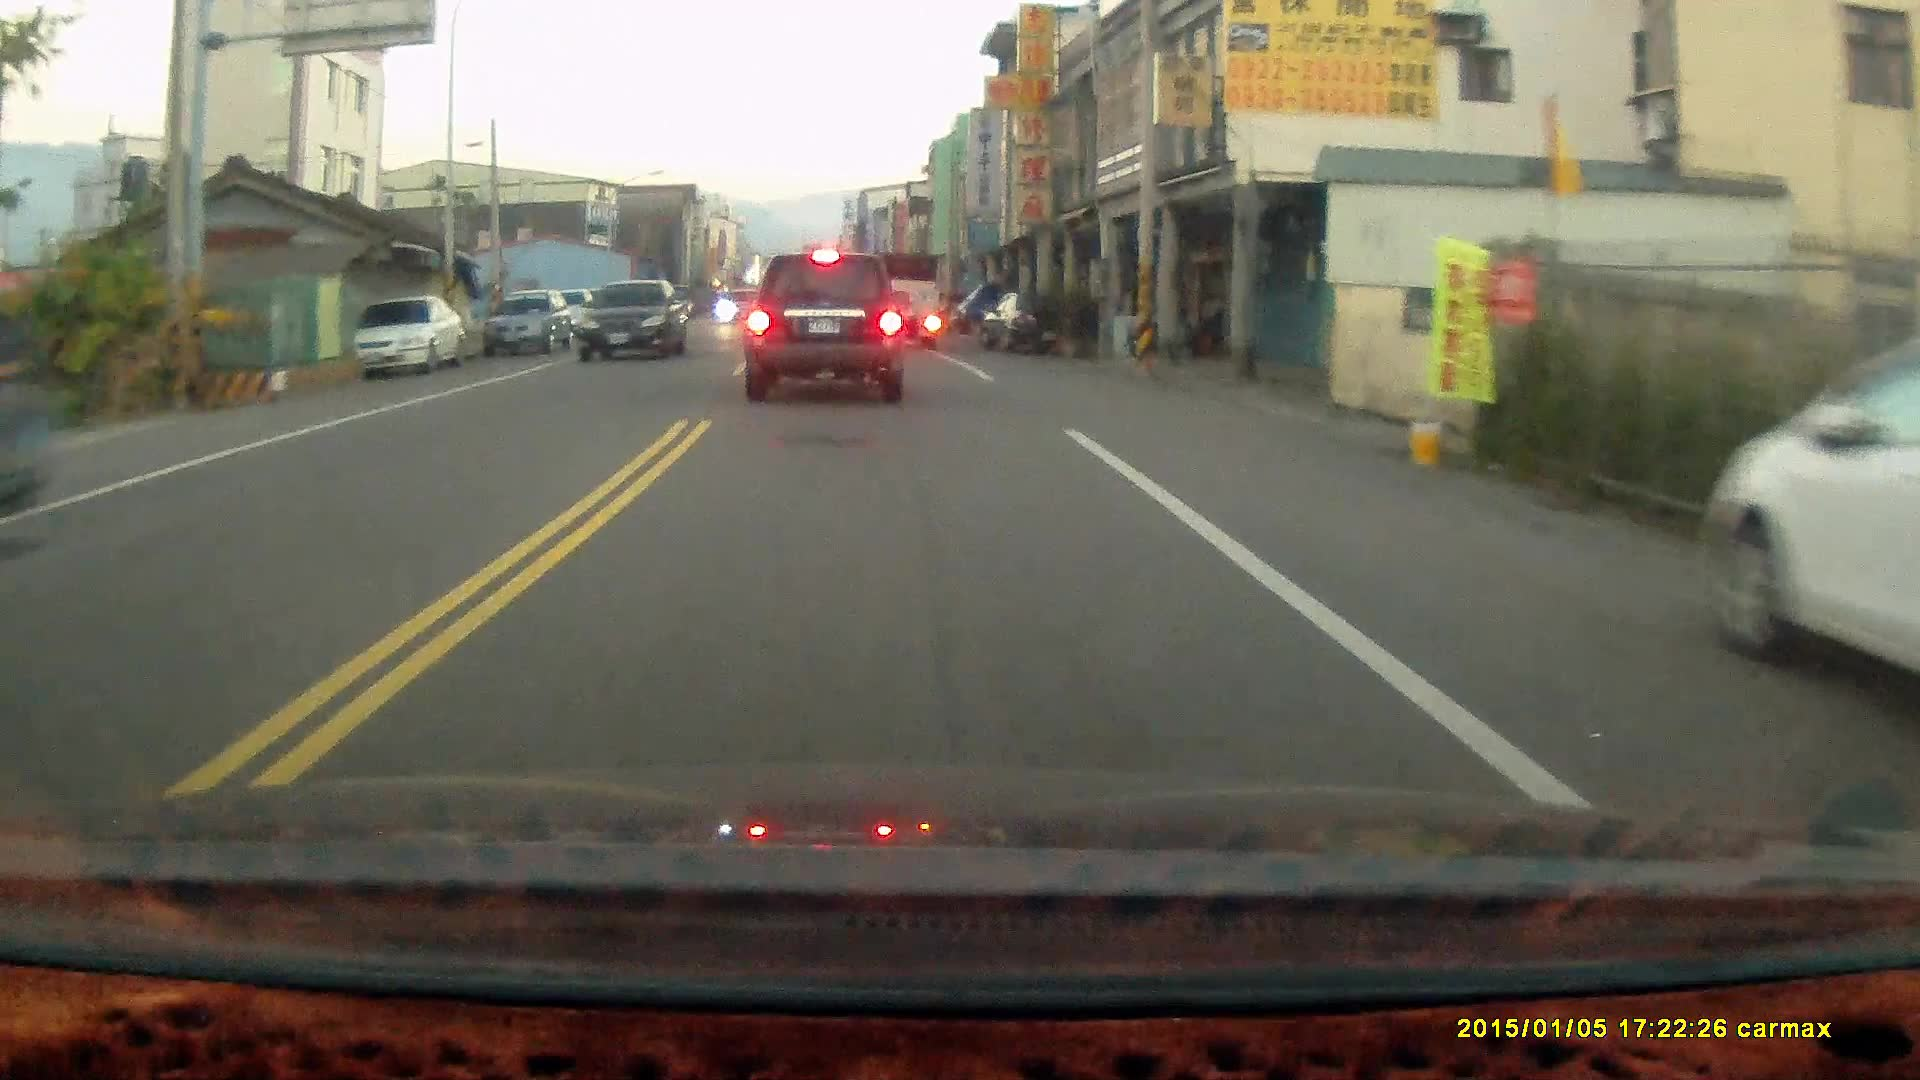rider: (0, 270, 63, 522)
vehicle: (1701, 314, 1920, 712), (746, 255, 910, 411), (351, 299, 467, 377), (584, 282, 689, 365), (865, 254, 944, 354), (487, 290, 577, 361)
